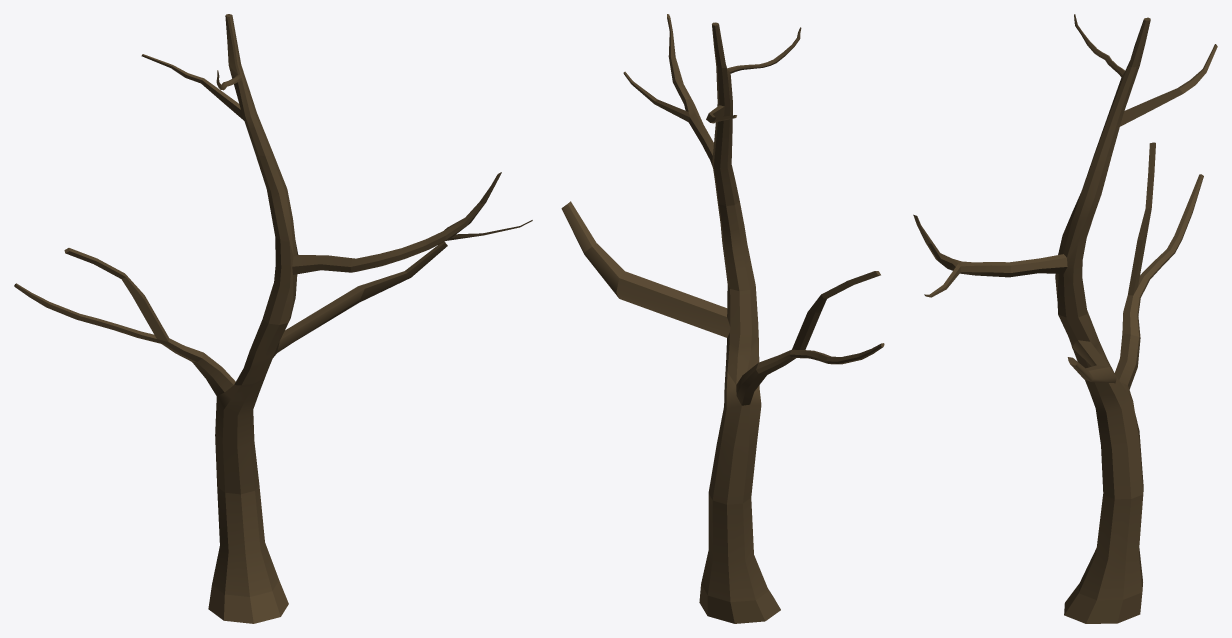
File: tree1trunk.fbx
3 renders of one model, left to right at view 1: azimuth 30°, elevation 25°; view 2: azimuth 150°, elevation 25°; view 3: azimuth 270°, elevation 25°, orthographic. The views are drawn at different scales.
Visible parts, largest first — view 1: polySurface809; view 2: polySurface809; view 3: polySurface809.
Boxes of the visible parts, left/top/right/bottom form: polySurface809: left=14, top=14, right=532, bottom=623; polySurface809: left=561, top=14, right=884, bottom=623; polySurface809: left=913, top=14, right=1217, bottom=623.
Size of the model in its own units: 2.49 by 3.56 by 1.66.
